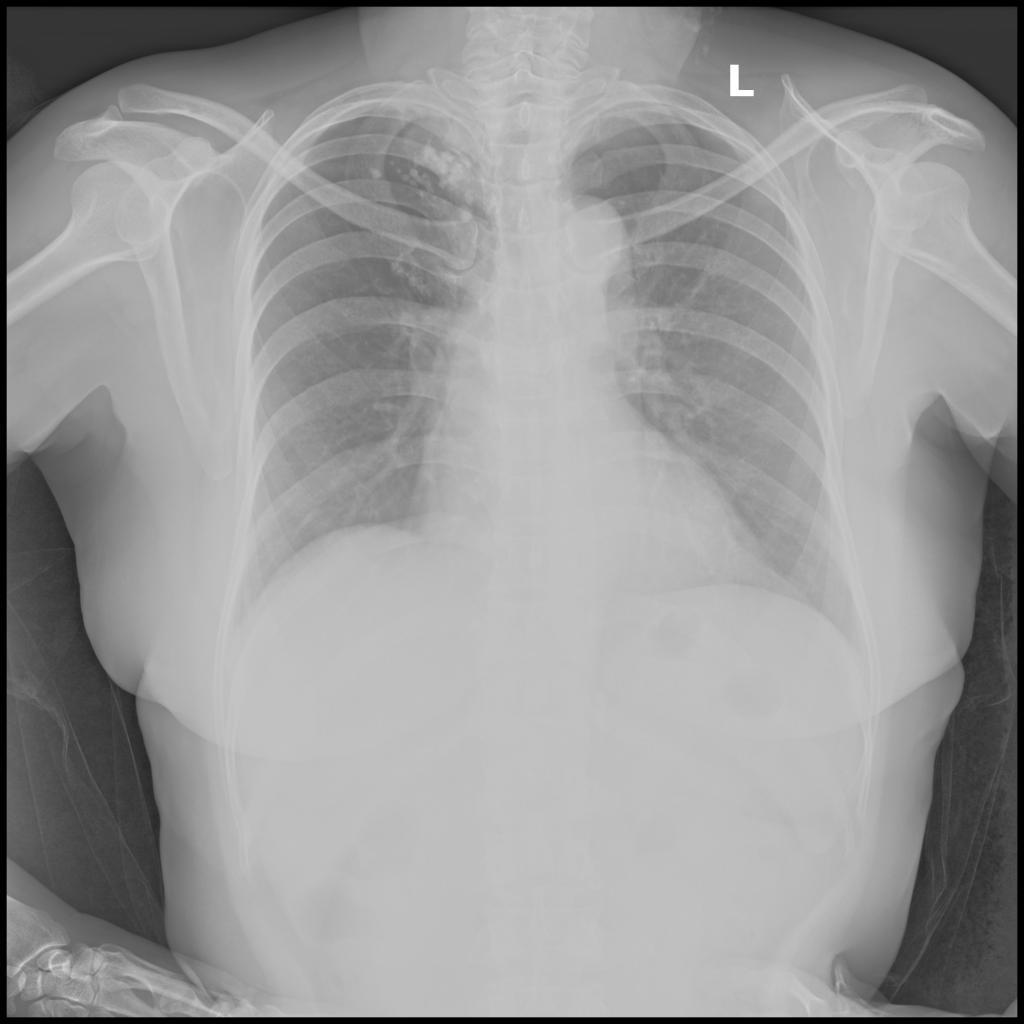Nodule: (369, 142, 478, 212)
